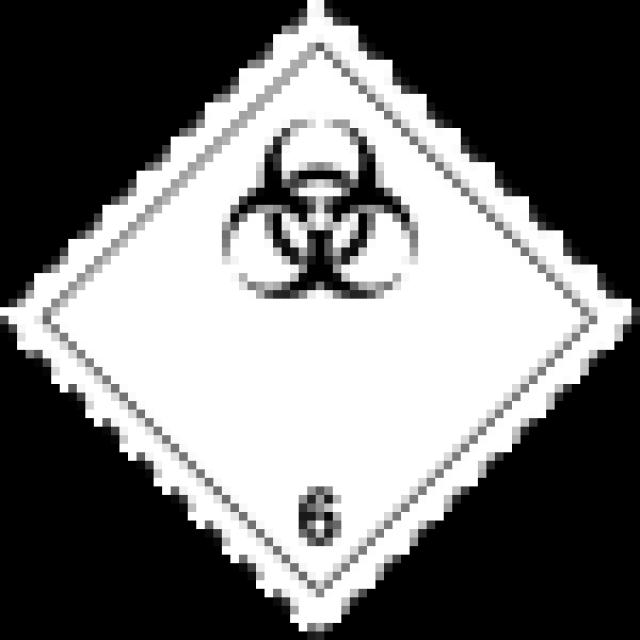Class 6-2: (8, 8, 640, 640)
